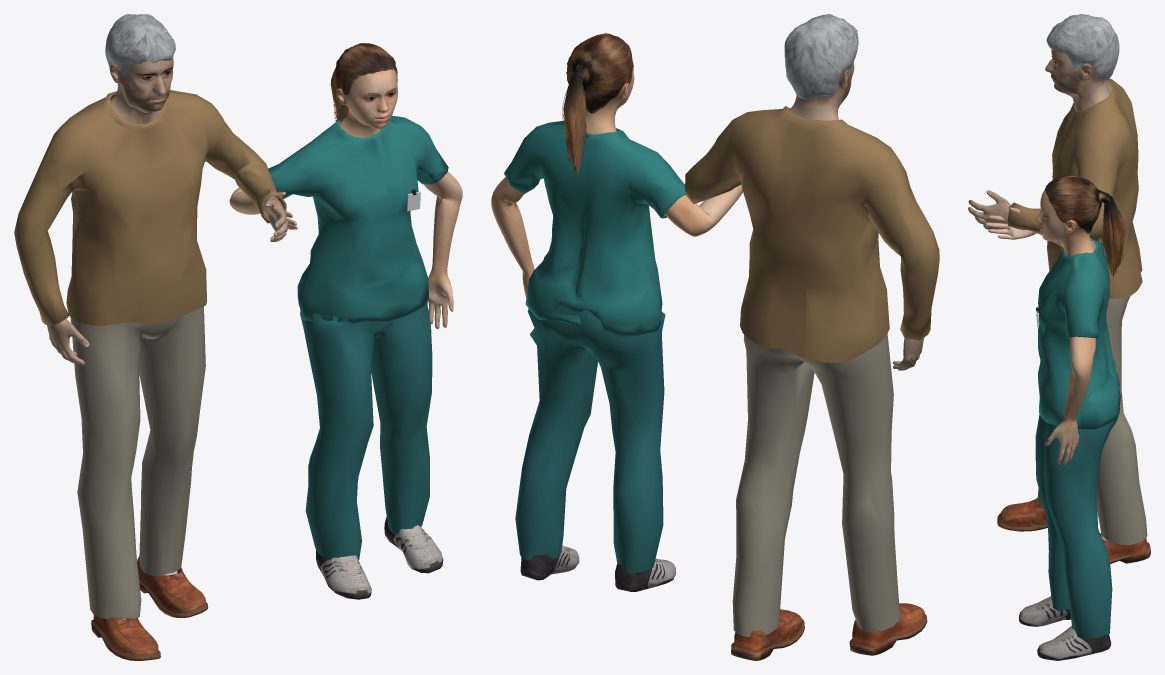
File: physio.glb
The picture shows the model from 3 angles, left to right: view 1: azimuth 30°, elevation 25°; view 2: azimuth 150°, elevation 25°; view 3: azimuth 270°, elevation 25°; orthographic projection. The views are drawn at different scales.
Parts seen in each view (by area): view 1: male_casualsuit02, male_casualsuit06, Alex | anatomical body, Casey | anatomical body, shoes01, shoes05, short02, ponytail01; view 2: male_casualsuit02, male_casualsuit06, Alex | anatomical body, ponytail01, short02, shoes01, shoes05, Casey | anatomical body; view 3: male_casualsuit06, male_casualsuit02, Alex | anatomical body, ponytail01, short02, Casey | anatomical body, shoes05, shoes01.
Boxes of the visible parts, x1,y1,x2,y2 form: male_casualsuit02: [14, 90, 286, 619]; male_casualsuit06: [268, 115, 448, 560]; Alex | anatomical body: [229, 69, 462, 328]; Casey | anatomical body: [47, 57, 287, 364]; shoes01: [91, 556, 208, 660]; shoes05: [316, 517, 443, 599]; short02: [105, 14, 175, 75]; ponytail01: [330, 43, 397, 121]; male_casualsuit02: [685, 106, 939, 636]; male_casualsuit06: [504, 120, 685, 573]; Alex | anatomical body: [491, 59, 742, 309]; ponytail01: [562, 33, 633, 174]; short02: [784, 14, 858, 100]; shoes01: [731, 603, 927, 660]; shoes05: [520, 545, 675, 591]; Casey | anatomical body: [789, 61, 924, 370]; male_casualsuit06: [1035, 237, 1120, 638]; male_casualsuit02: [1008, 78, 1147, 544]; Alex | anatomical body: [985, 189, 1102, 464]; ponytail01: [1045, 175, 1125, 275]; short02: [1046, 14, 1119, 80]; Casey | anatomical body: [968, 49, 1111, 229]; shoes05: [1019, 596, 1111, 660]; shoes01: [997, 498, 1150, 563].
Bounding box in the file's own units: 1.42 × 1.88 × 0.5921.
21 materials, 21 textured.
